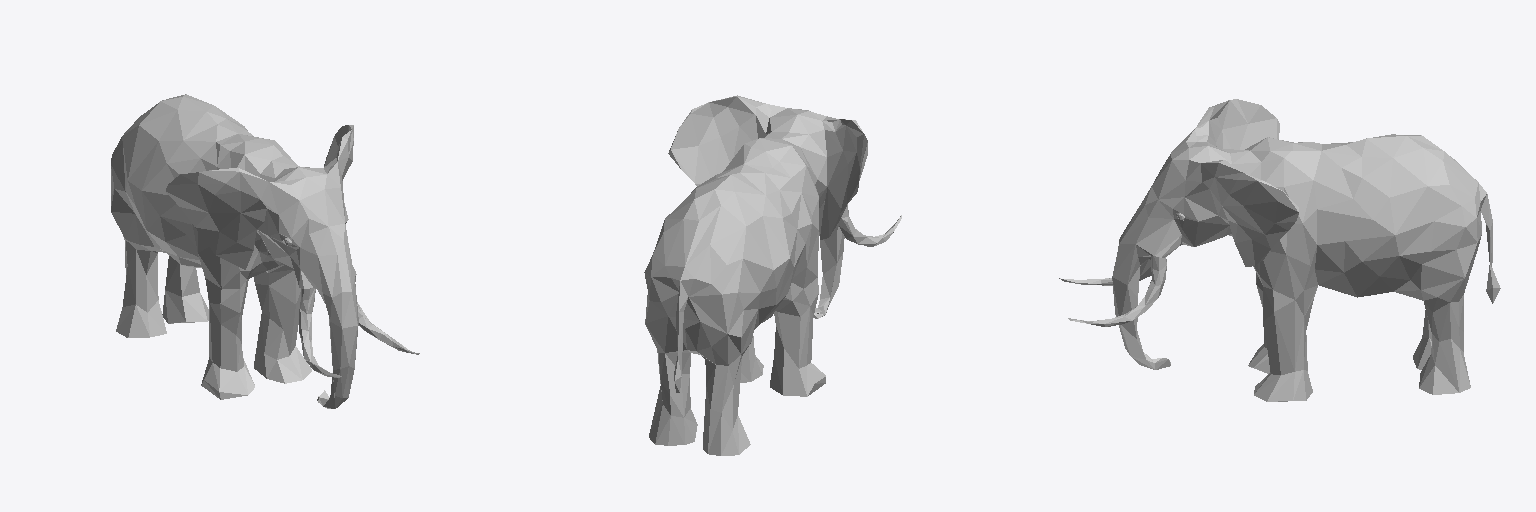
Rendered from Low Poly Elephant.obj.
3 views of the same model, side by side, from view 1: azimuth 30°, elevation 25°; view 2: azimuth 150°, elevation 25°; view 3: azimuth 270°, elevation 25° (orthographic).
Parts seen in each view (by area): view 1: Elephant_Plane.002; view 2: Elephant_Plane.002; view 3: Elephant_Plane.002.
Part boxes in pixels (bbox=[...]): Elephant_Plane.002: bbox=[111, 94, 419, 408]; Elephant_Plane.002: bbox=[644, 95, 901, 455]; Elephant_Plane.002: bbox=[1059, 99, 1500, 401].
Size of the model in its own units: 0.9831 by 1.3 by 2.08.